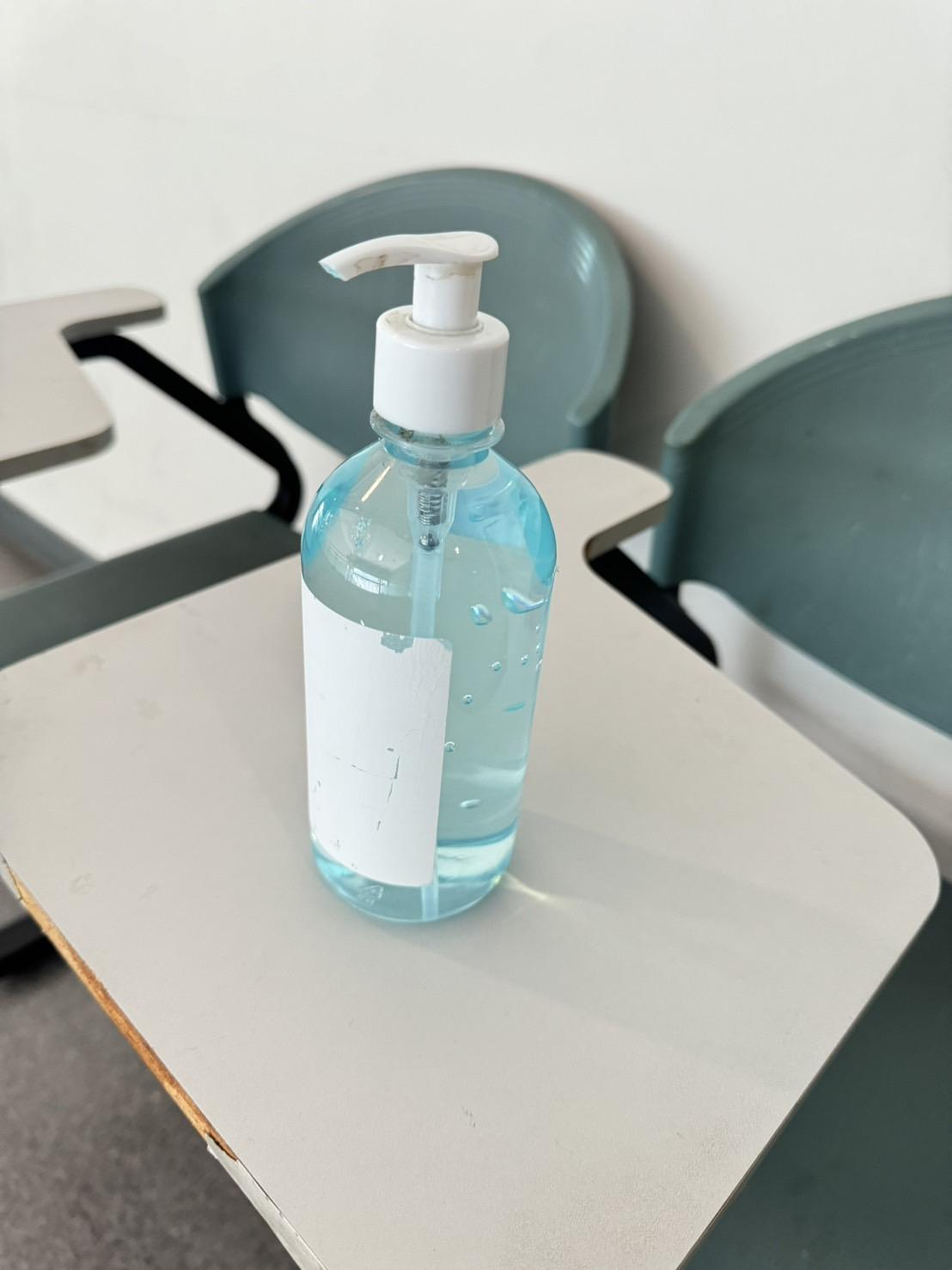Bottle: (300, 231, 556, 922)
